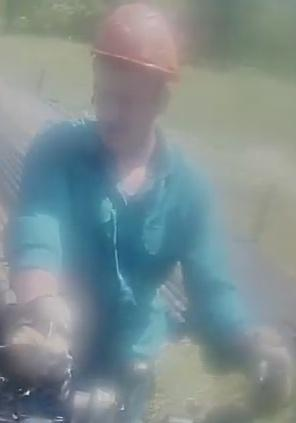gloves: (1, 293, 75, 395), (228, 318, 292, 409)
helmet: (90, 4, 181, 82)
vest: (0, 121, 225, 356)
